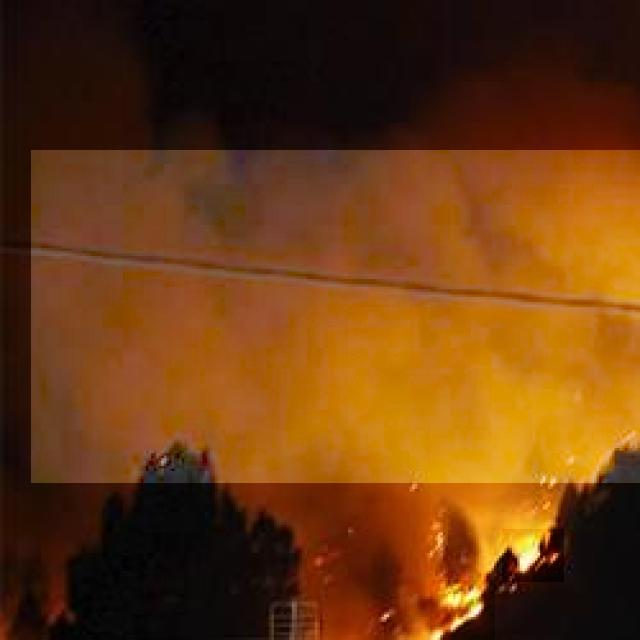Fire: (430, 580, 495, 640), (502, 529, 564, 582)
Smoke: (31, 150, 640, 483)
